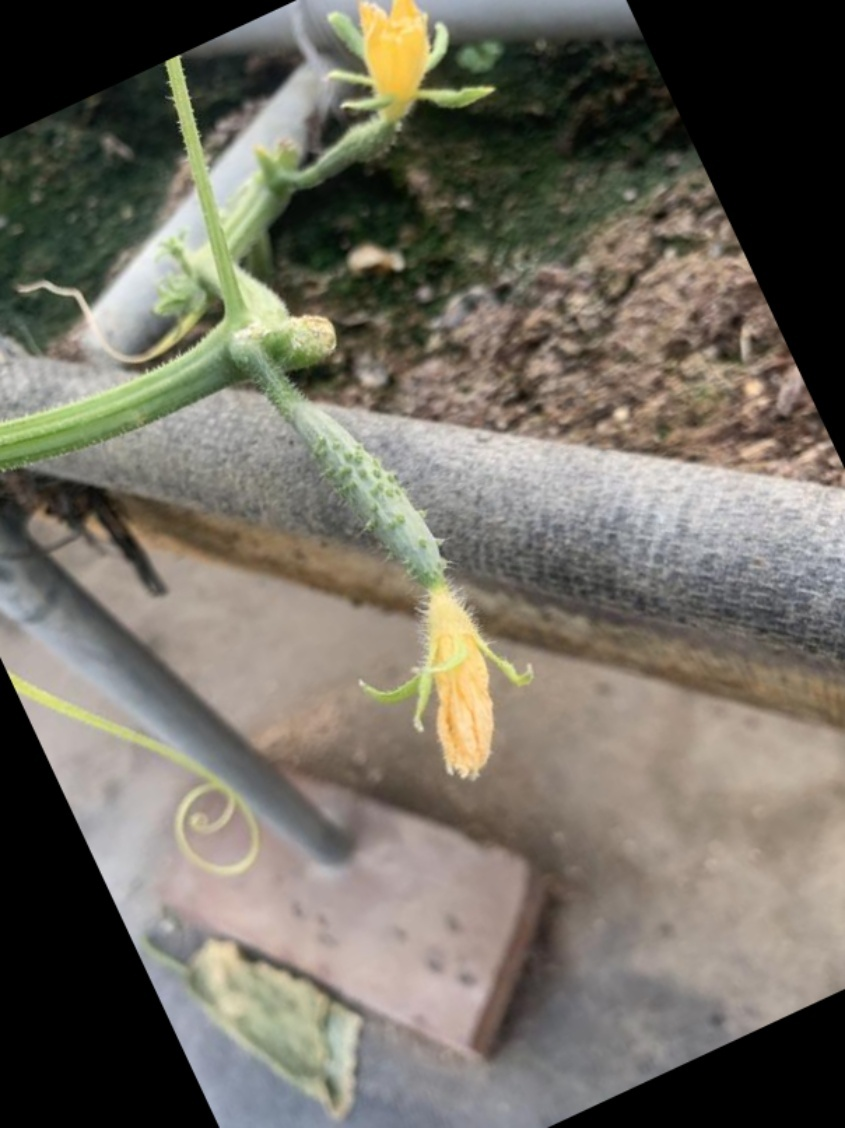bear: (274, 361, 551, 794), (298, 0, 484, 189)
